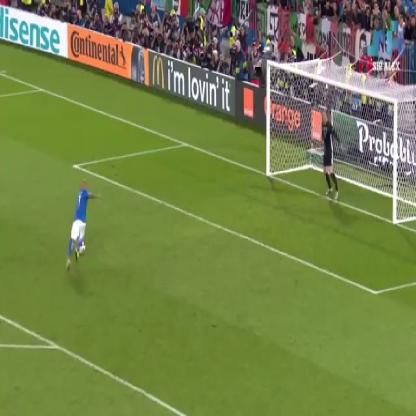penalty kick: (39, 53, 402, 269)
